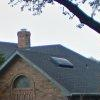Chimney: (12, 24, 33, 53)
